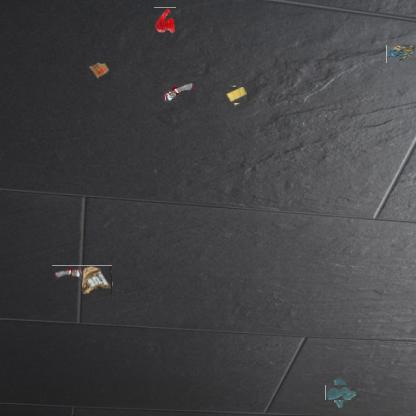dirty: (82, 265, 112, 294), (164, 81, 198, 103), (386, 46, 415, 64), (52, 265, 84, 280), (87, 62, 111, 80), (227, 86, 246, 104)
liquid: (154, 7, 176, 34), (329, 381, 353, 404)
